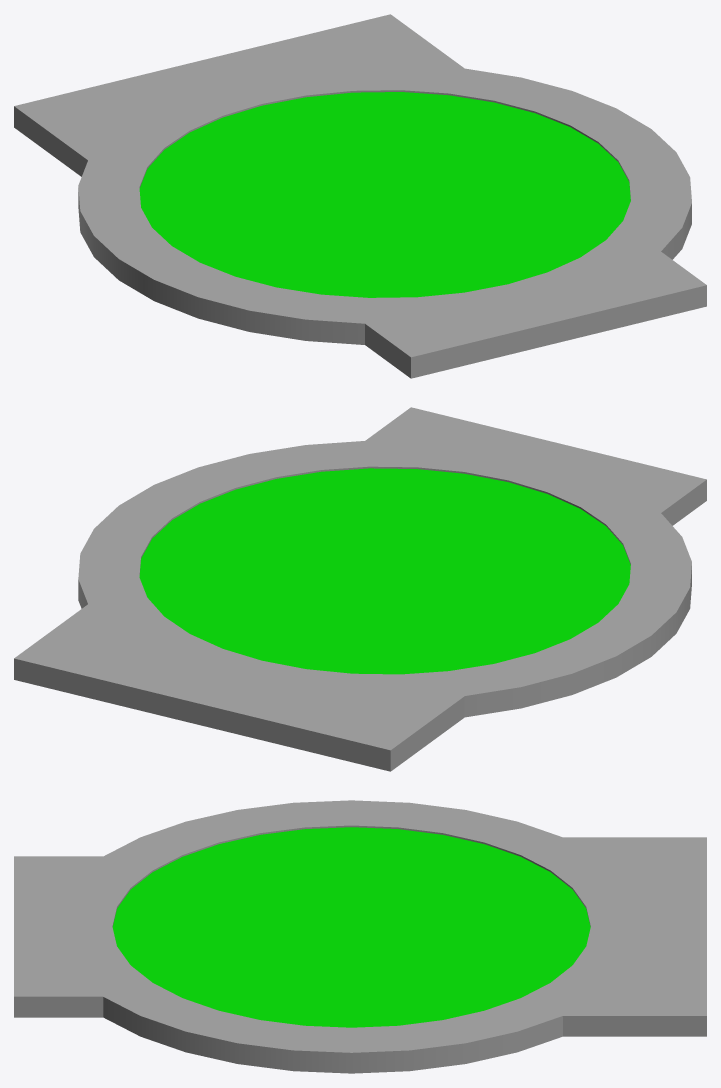
The model's file is SwingsGround.fbx.
The picture shows the model from 3 angles, top to bottom: view 1: azimuth 30°, elevation 25°; view 2: azimuth 150°, elevation 25°; view 3: azimuth 270°, elevation 25°; orthographic projection. The views are drawn at different scales.
Visible parts, largest first — view 1: SwingsGround; view 2: SwingsGround; view 3: SwingsGround.
Part boxes in pixels (x1,y1,x2,y2): SwingsGround: (14,14,706,378); SwingsGround: (14,407,706,771); SwingsGround: (14,800,706,1073).
Bounding box in the file's own units: 2662 × 102 × 3087.
